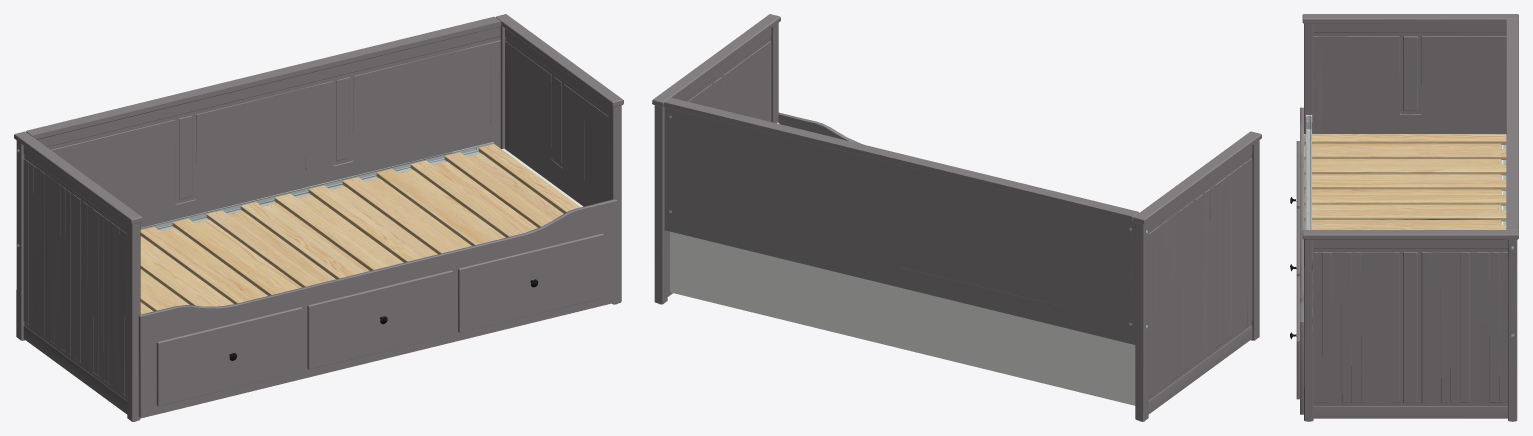
3 renders of one model, left to right at view 1: azimuth 30°, elevation 25°; view 2: azimuth 150°, elevation 25°; view 3: azimuth 270°, elevation 25°, orthographic. The views are drawn at different scales.
Parts seen in each view (by area): view 1: model; view 2: model; view 3: model.
Boxes of the visible parts, <box> form: model: <box>14,14,623,421</box>; model: <box>652,14,1261,421</box>; model: <box>1290,14,1518,421</box>.
Bounding box in the file's own units: 2.09 × 0.8301 × 0.9129.
Materials: 1 (1 with a texture image).
